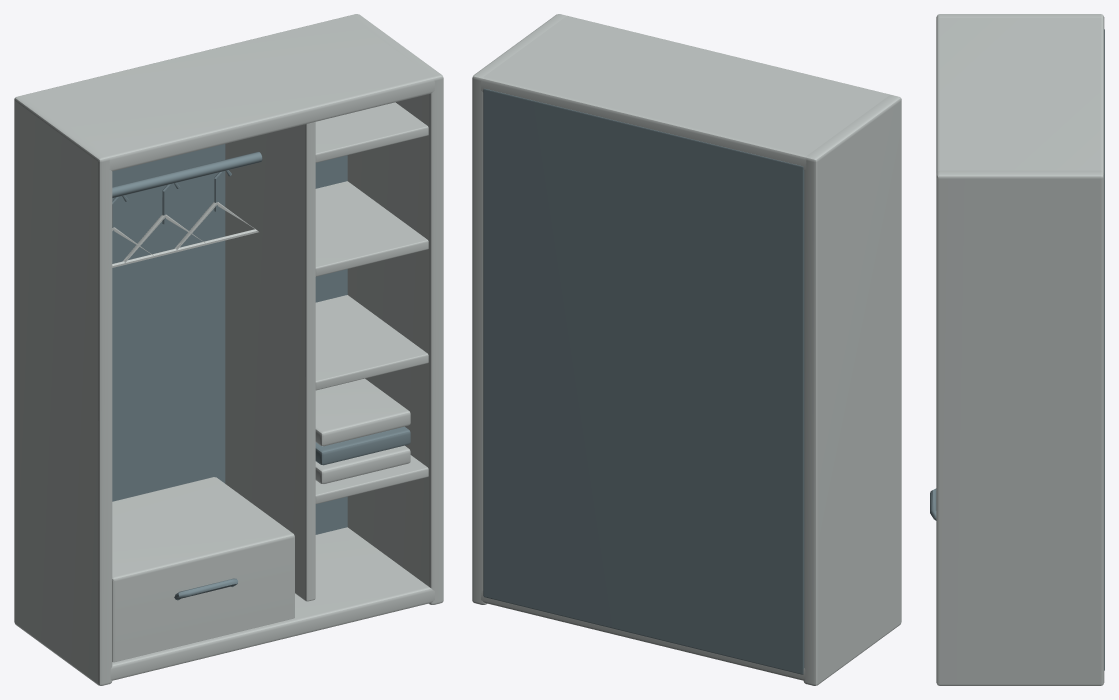
Rendered from wardrobe-open.glb.
The picture shows the model from 3 angles, left to right: view 1: azimuth 30°, elevation 25°; view 2: azimuth 150°, elevation 25°; view 3: azimuth 270°, elevation 25°; orthographic projection. The views are drawn at different scales.
Visible parts, largest first — view 1: wardrobe_side, wardrobe_back, divider, wardrobe_horizontal.001, wardrobe_side.001, storage_drawer, wardrobe_horizontal, open_shelf.002, open_shelf.001, folded_clothing.002, open_shelf.003, open_shelf (+5 smaller); view 2: wardrobe_back, wardrobe_side, wardrobe_horizontal.001, wardrobe_side.001, wardrobe_horizontal; view 3: wardrobe_side.001, wardrobe_horizontal.001, wardrobe_side, wardrobe_back.
Part boxes in pixels (x1,y1,x2,y2): wardrobe_side: (14,95,112,685); wardrobe_back: (112,144,347,534); divider: (225,122,315,601); wardrobe_horizontal.001: (25,16,434,171); wardrobe_side.001: (347,14,443,604); storage_drawer: (112,477,294,662); wardrobe_horizontal: (110,527,434,680); open_shelf.002: (315,181,428,276); open_shelf.001: (315,295,428,390); folded_clothing.002: (315,378,410,446); open_shelf.003: (315,102,428,162); open_shelf: (315,455,428,503); wardrobe_back: (483,88,804,674); wardrobe_side: (803,95,901,685); wardrobe_horizontal.001: (481,16,890,170); wardrobe_side.001: (472,14,567,604); wardrobe_horizontal: (481,590,805,680); wardrobe_side.001: (936,170,1104,685); wardrobe_horizontal.001: (936,18,1104,173); wardrobe_side: (936,14,1104,20); wardrobe_back: (1104,29,1104,670).
Size of the model in its own units: 1.33 by 1.95 by 0.6044.
